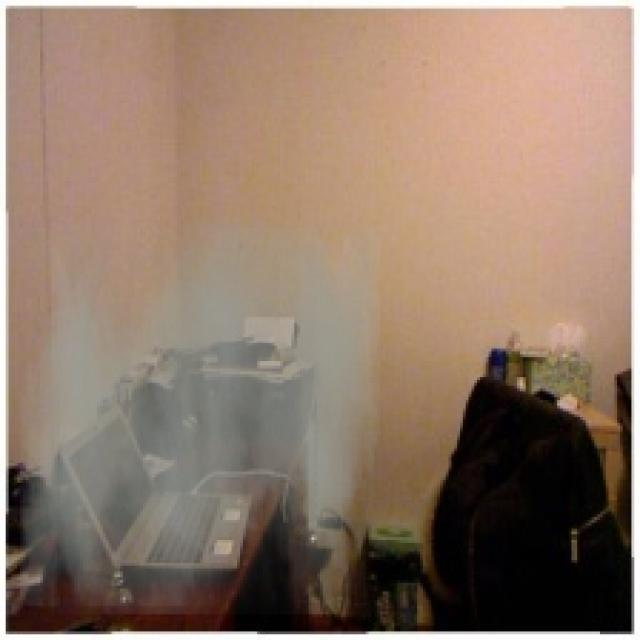Smoke: (20, 222, 380, 614)
